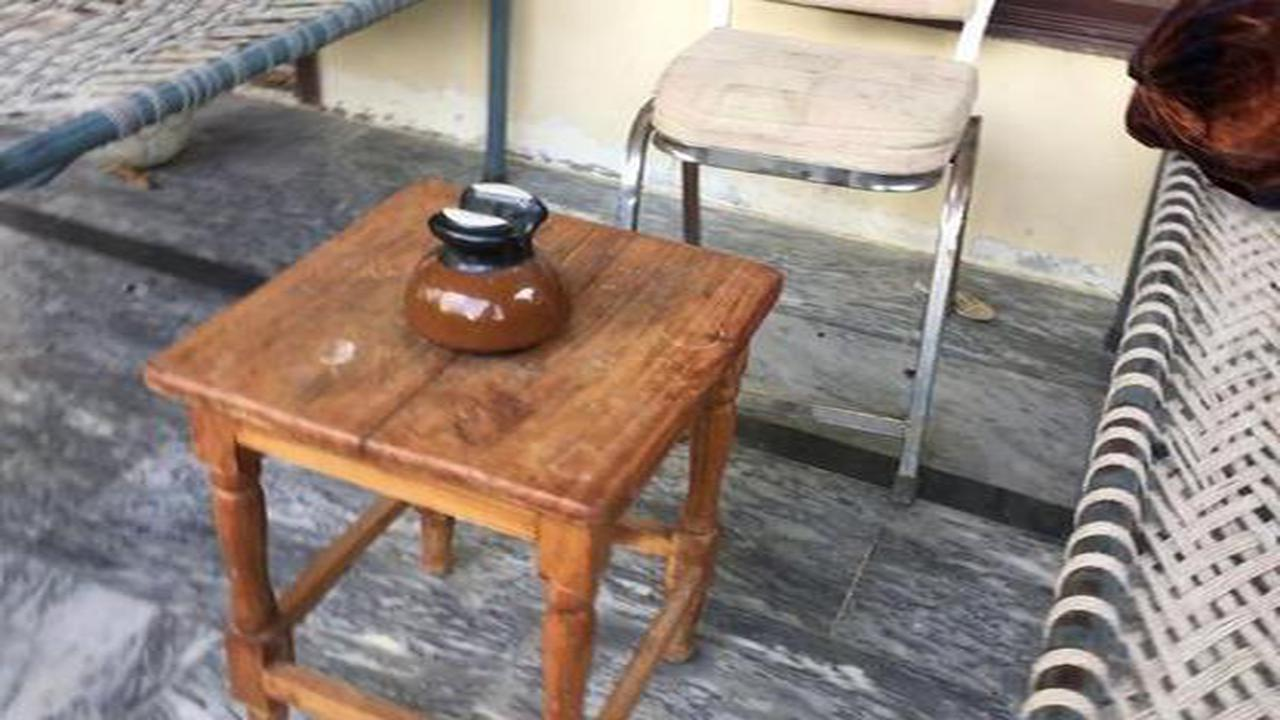insulator_pin: (401, 168, 579, 359)
